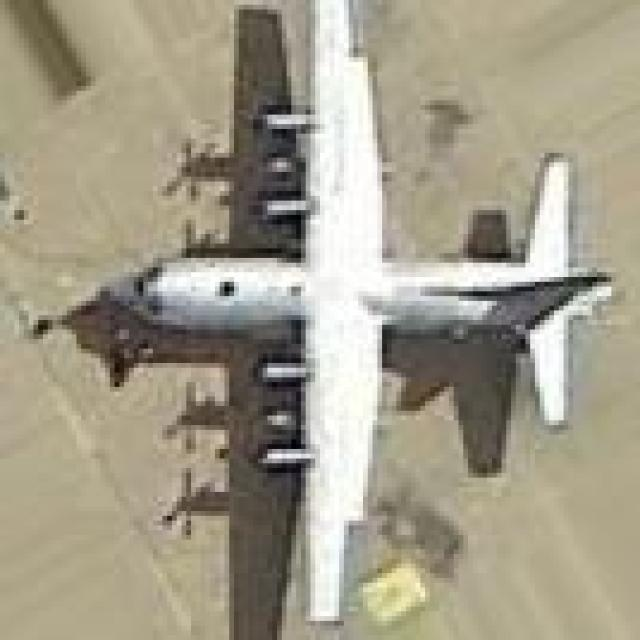C-130_TopDown: (63, 0, 620, 640)
